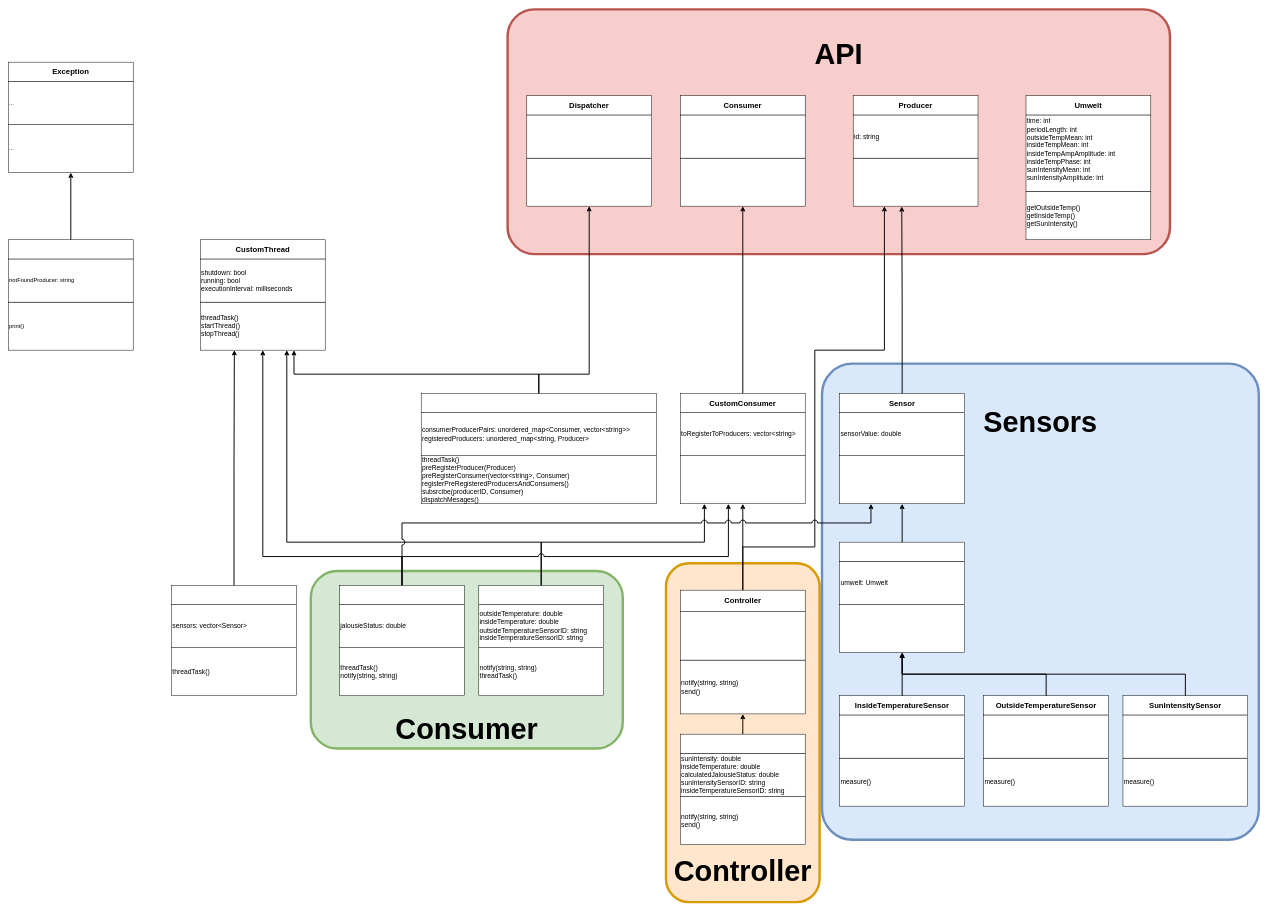
Image size: 1268x912. Some labels were removed from this diagram. The centre of each missing label's shape, as x and y in pixels:
CustomDispatcher: (538,403)
getId() send(): (915,182)
JalousieController: (742,743)
JalousieSteuerung: (401,595)
measuer(): (902,628)
measuer() send(): (902,479)
notify(string, string): (742,182)
notify(string, string) registerAtDispatcher(Dispatcher): (742,479)
registerProducer(Producer) subscribe(string, Consumer) run() dispatchMessages(): (589,182)
SensorMeasureThread: (233,595)
SubscriptionException: (70,249)
TemperatureMonitor: (541,595)
UmweltSensor: (902,551)
